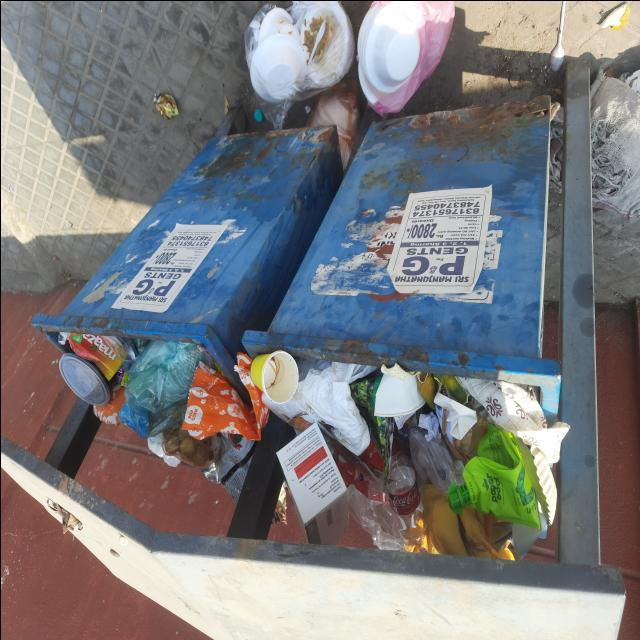Disposable: (244, 0, 354, 128), (356, 0, 454, 113), (305, 78, 359, 168), (502, 490, 504, 492)
Garbage: (38, 325, 559, 565), (228, 0, 472, 168), (401, 25, 402, 28)
Plastic: (446, 423, 539, 528), (58, 352, 109, 405), (252, 108, 262, 122), (398, 492, 399, 493)
Plastic_Bag: (261, 358, 371, 455), (118, 340, 211, 437), (332, 438, 404, 548), (409, 427, 464, 495), (160, 425, 220, 468), (101, 335, 139, 370)
Plastic_bottle: (385, 437, 425, 552)
Plastic_wraper: (349, 375, 394, 482), (201, 432, 254, 502), (152, 92, 178, 118), (115, 365, 125, 385), (56, 330, 69, 343)
Tetrapack: (68, 332, 121, 378)
